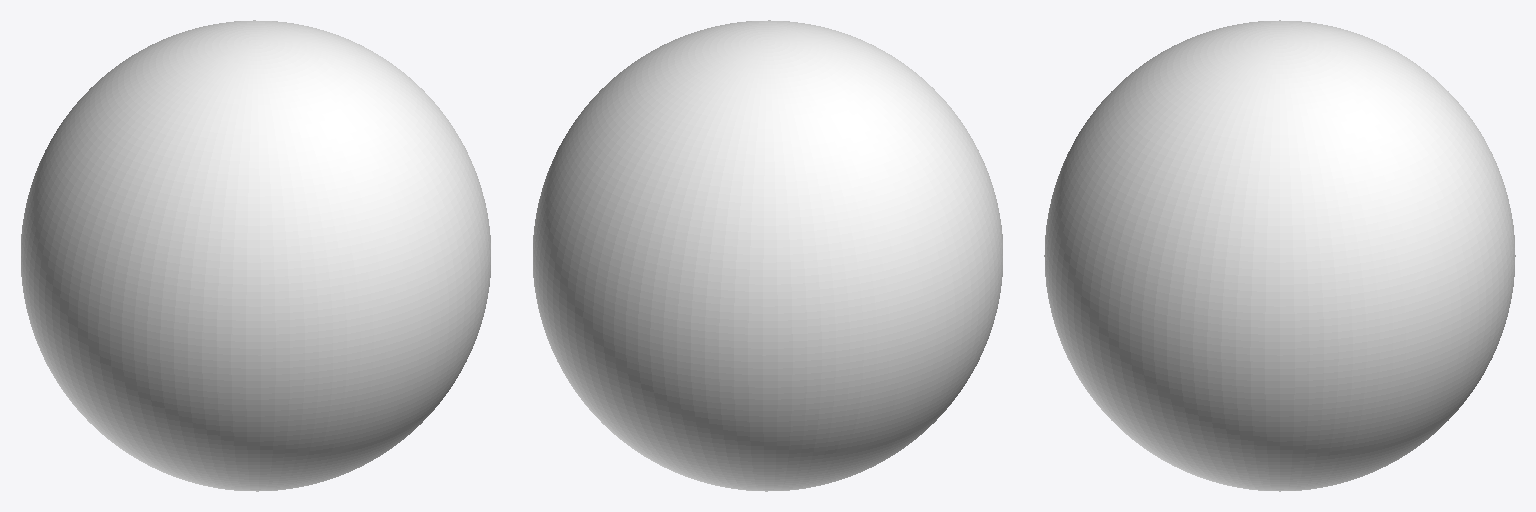
The model's file is Jupiter.obj.
The picture shows the model from 3 angles: view 1: azimuth 30°, elevation 25°; view 2: azimuth 150°, elevation 25°; view 3: azimuth 270°, elevation 25°; orthographic projection.
Parts seen in each view (by area): view 1: Object.1; view 2: Object.1; view 3: Object.1.
Boxes of the visible parts, x1=… form: Object.1: x1=21, y1=20, x2=490, y2=491; Object.1: x1=533, y1=20, x2=1002, y2=491; Object.1: x1=1044, y1=20, x2=1515, y2=491.
Bounding box in the file's own units: 200 × 200 × 200.